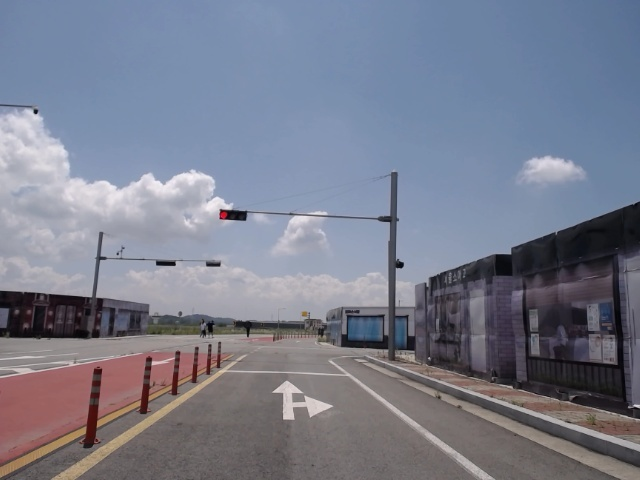red_3: (217, 208, 250, 223)
